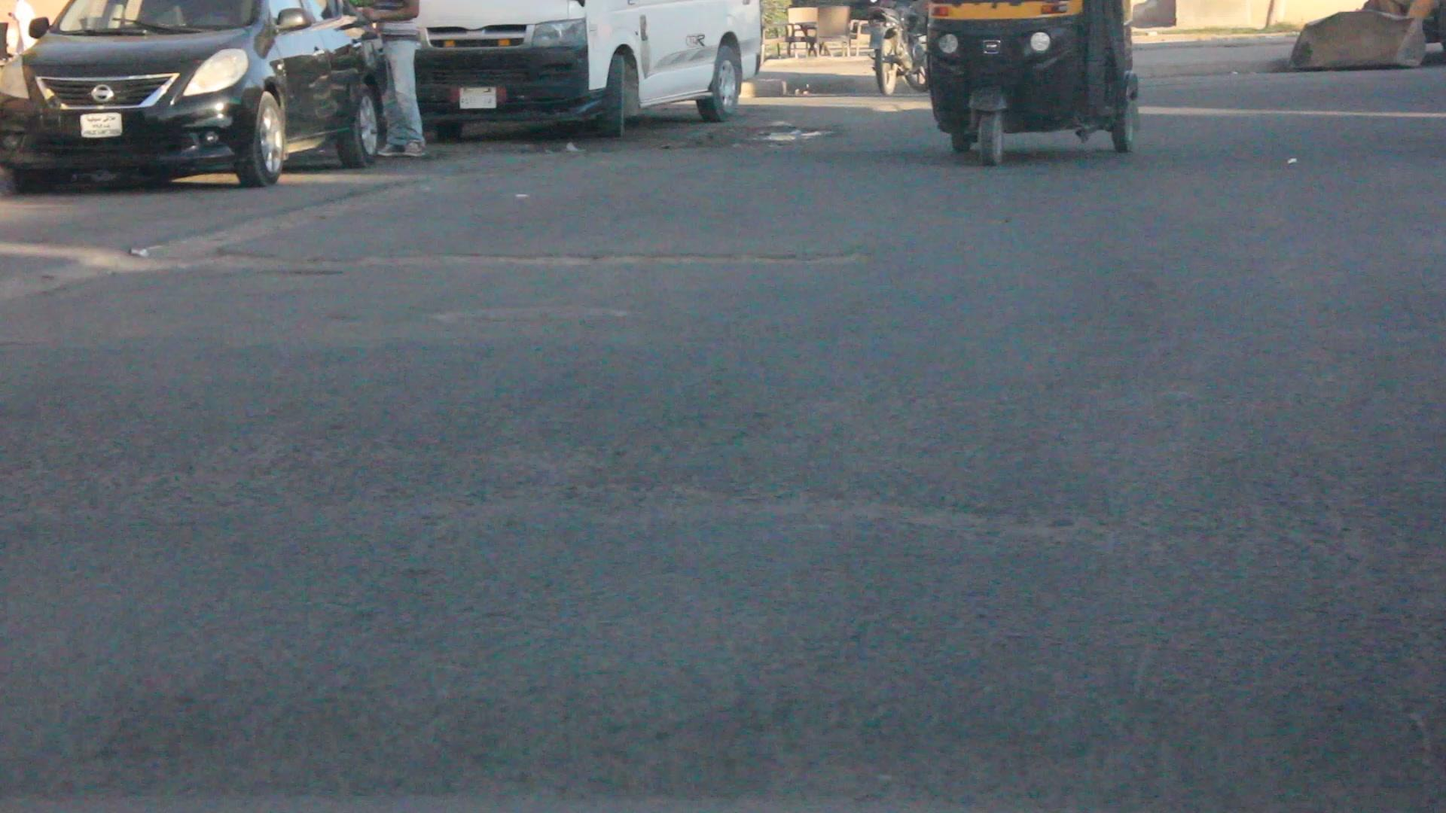Pothole: (177, 239, 887, 280)
